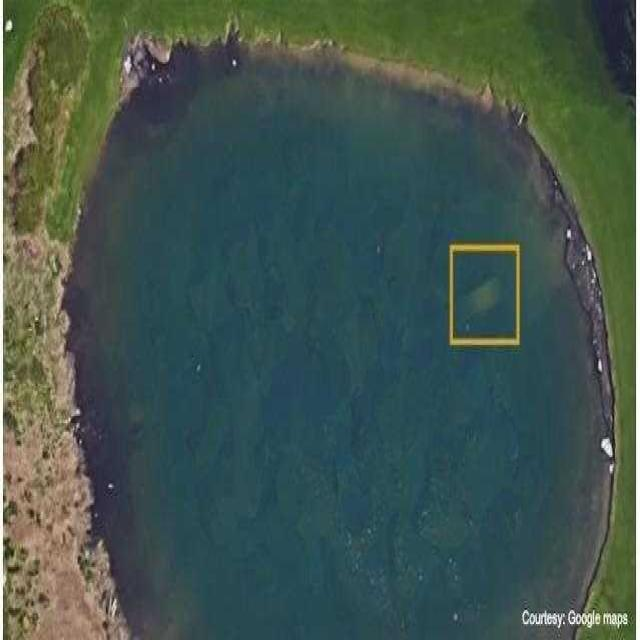Ponds: (62, 44, 616, 636)
